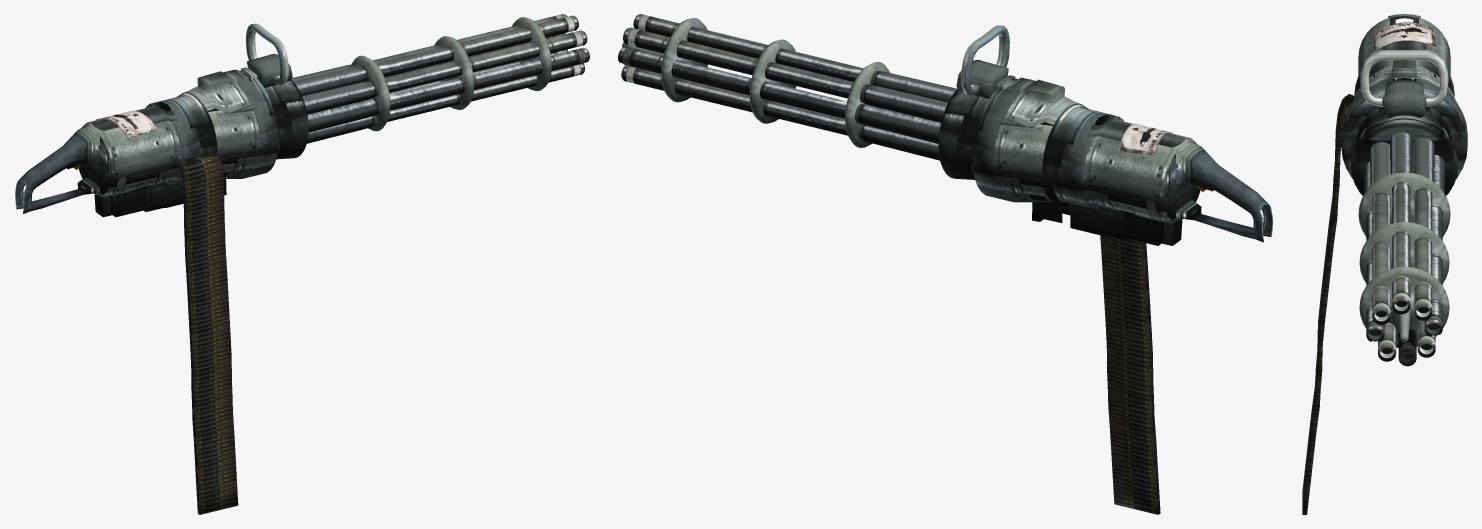
Rendered from minigun.obj.
3 views of the same model, side by side, from view 1: azimuth 30°, elevation 25°; view 2: azimuth 150°, elevation 25°; view 3: azimuth 270°, elevation 25° (orthographic). The views are drawn at different scales.
Visible parts, largest first — view 1: comeandtakeit; view 2: comeandtakeit; view 3: comeandtakeit.
Part boxes in pixels (box(x1,y1,x2,y2)): comeandtakeit: box(15, 14, 589, 514); comeandtakeit: box(618, 14, 1272, 514); comeandtakeit: box(1302, 14, 1467, 514).
Size of the model in its own units: 4.95 by 3.55 by 1.05.
